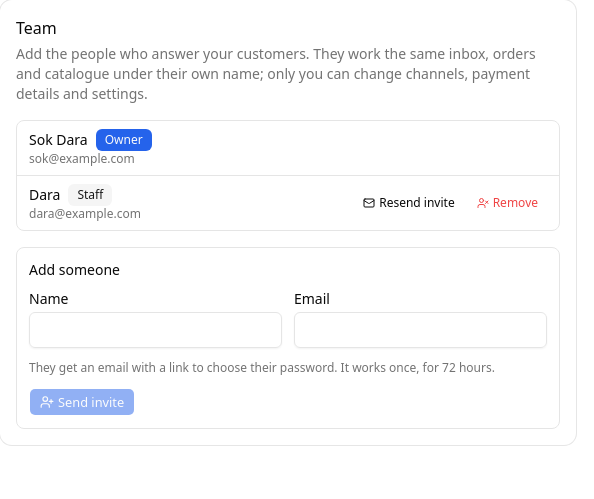
Scenario: TeamManager › invites someone by name and email
Type "Srey" into the field labelled "Name" at (156, 330), box top-left (29, 312), bottom-right (282, 348)
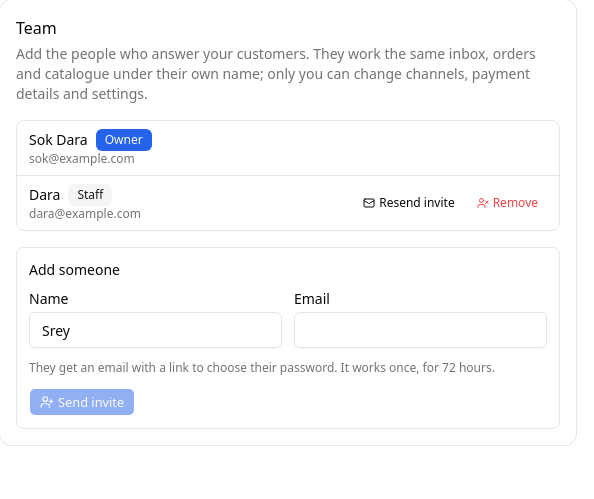
Type "srey@example.com" into the field labelled "Email" at (420, 330), box top-left (294, 312), bottom-right (547, 348)
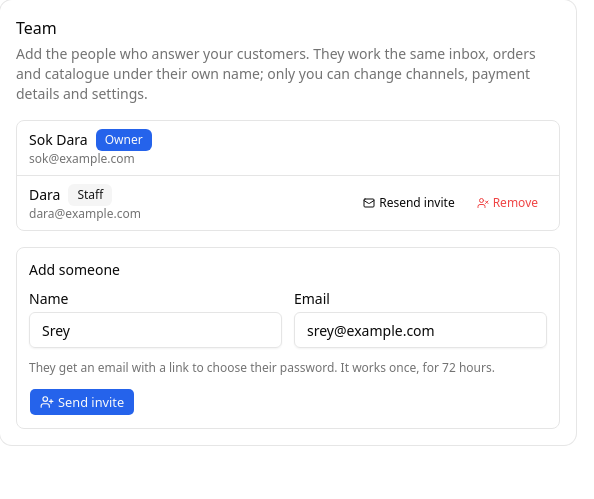
Click the button "Send invite" at (82, 402), box top-left (29, 388), bottom-right (135, 416)
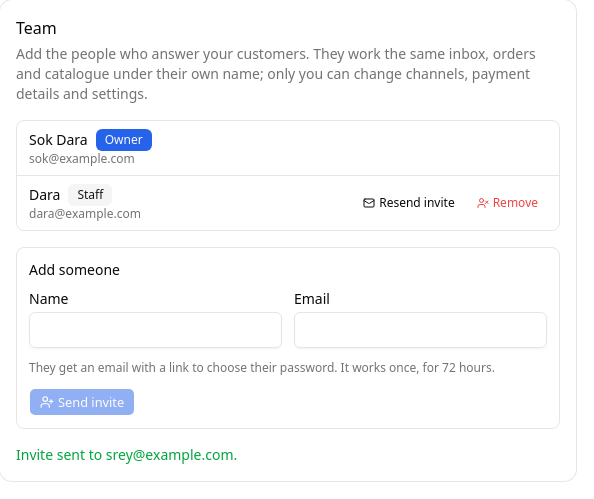
Now the text "Invite sent to srey@example.com." is shown, box top-left (16, 445), bottom-right (237, 464)
